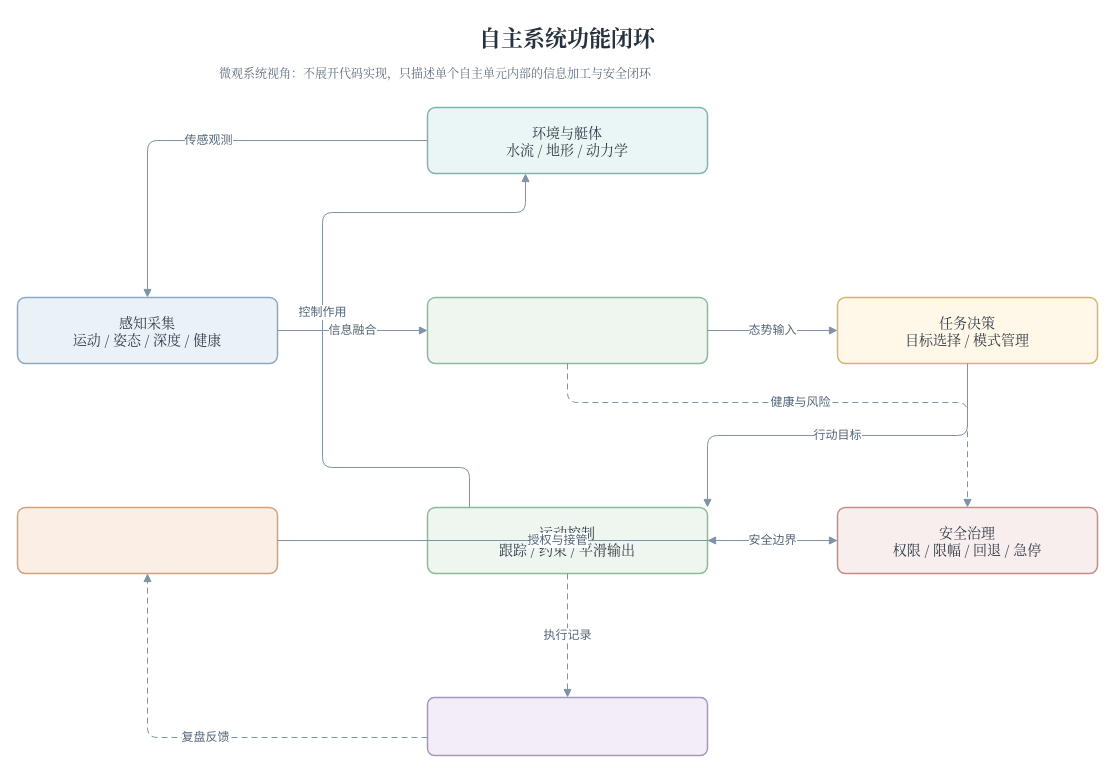
Some shapes in this 1116 by 773 pixel diagram are drawn without their labels. Here are the shapes that lost their labels. From the top down, the centre of each, then its label:
At point (567, 330): "状态理解 位置速度 / 置信度 / 风险".
At point (147, 540): "人工监督 授权 / 接管 / 任务调整".
At point (567, 726): "运行证据 记录 / 回放 / 评估".
